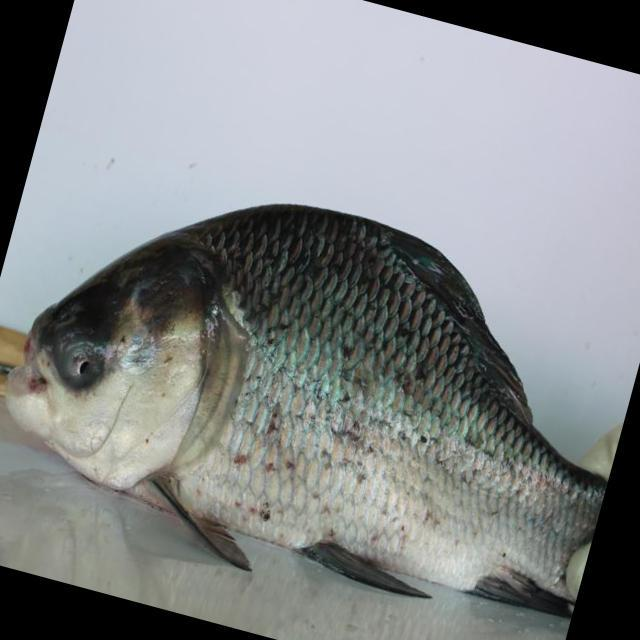Catla: (6, 213, 623, 621)
